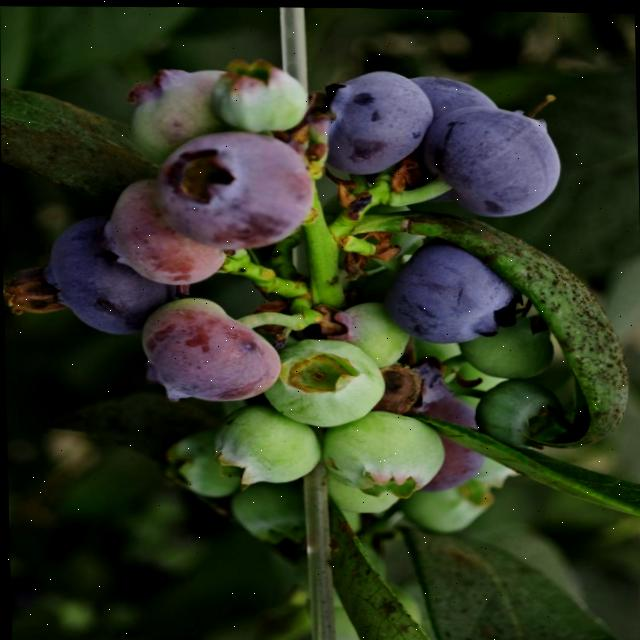RipeBlueBerry: (313, 61, 436, 179), (432, 104, 563, 213), (388, 242, 511, 341)
Semi-RipeBlueBerry: (156, 128, 317, 249), (133, 295, 276, 402)
UnripeBlueBerry: (324, 411, 447, 493), (272, 338, 383, 423), (211, 408, 318, 483), (213, 55, 302, 128)
